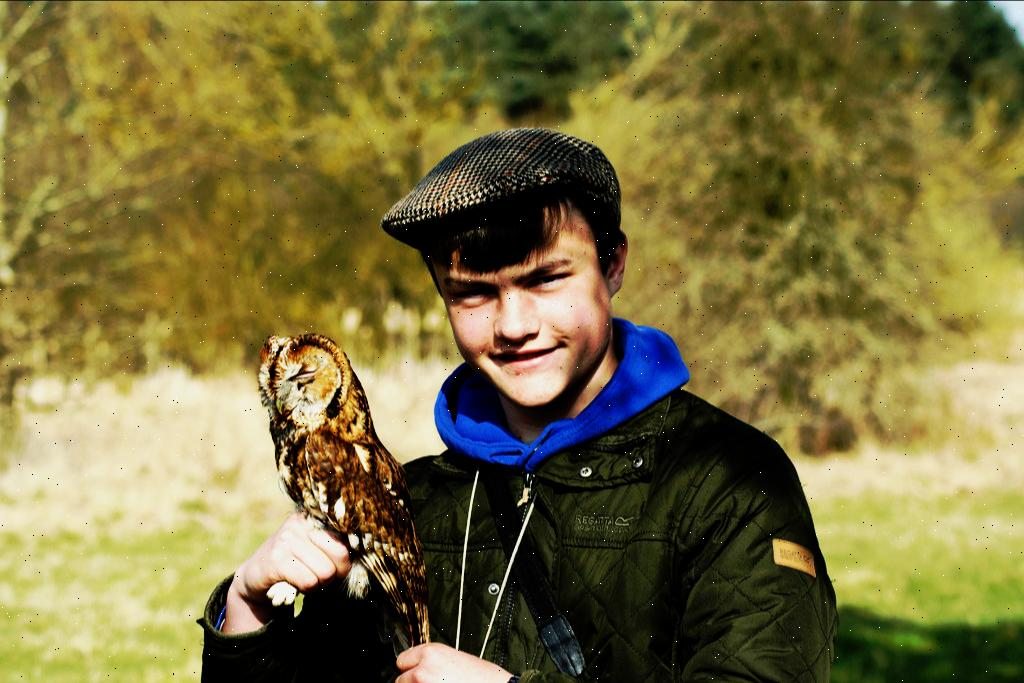Owl: (250, 334, 434, 657)
